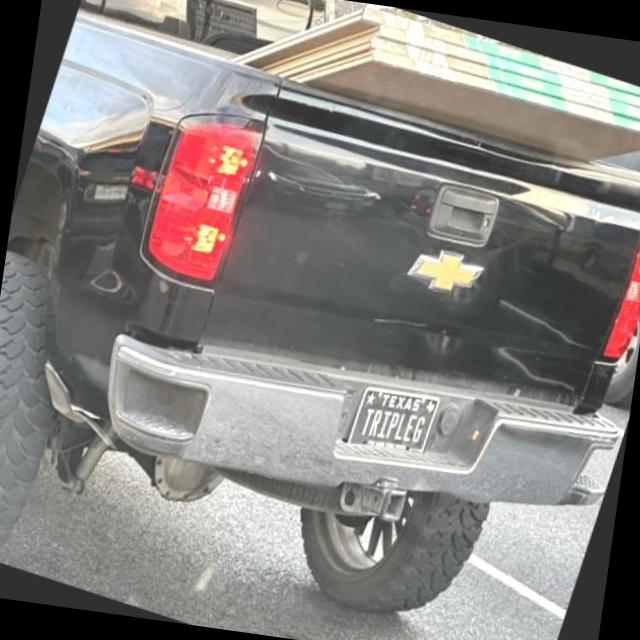LicensePlate: (346, 384, 441, 453)
